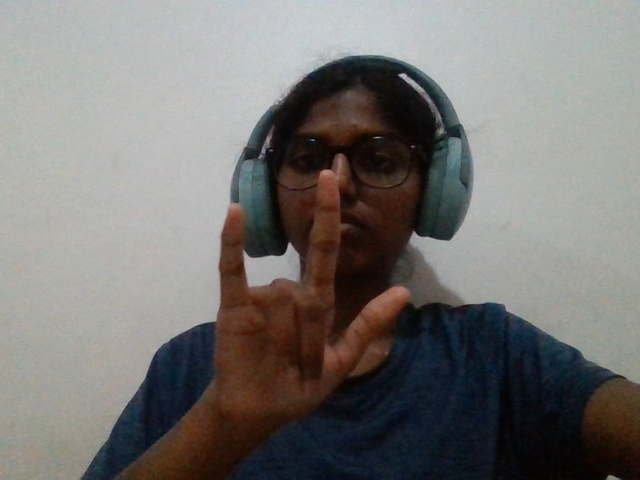I Love You: (181, 152, 424, 466)
